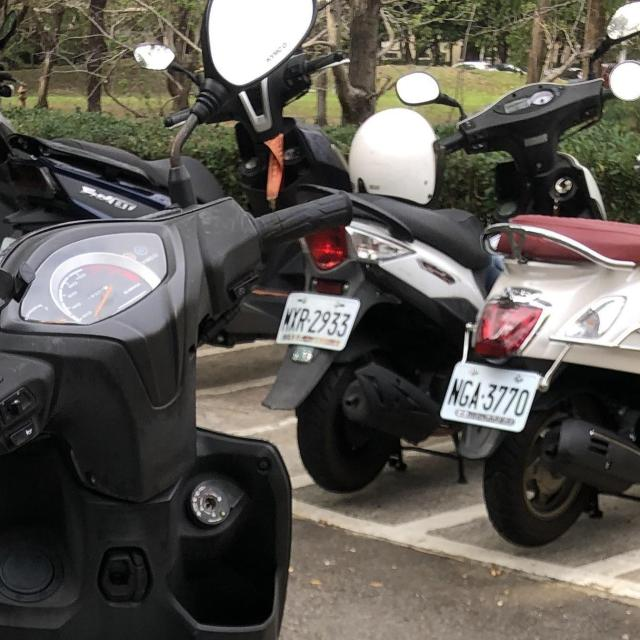W: (436, 354, 542, 438), (274, 283, 369, 354)
